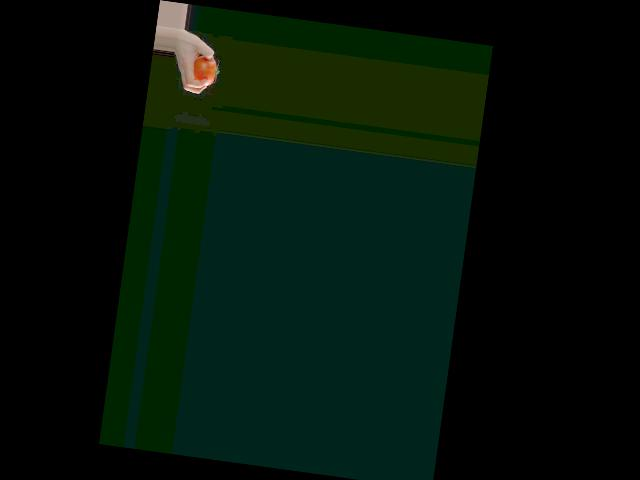tomato: (192, 54, 220, 86)
